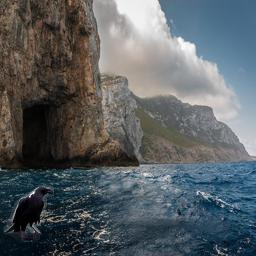Crow: (3, 185, 54, 243)
